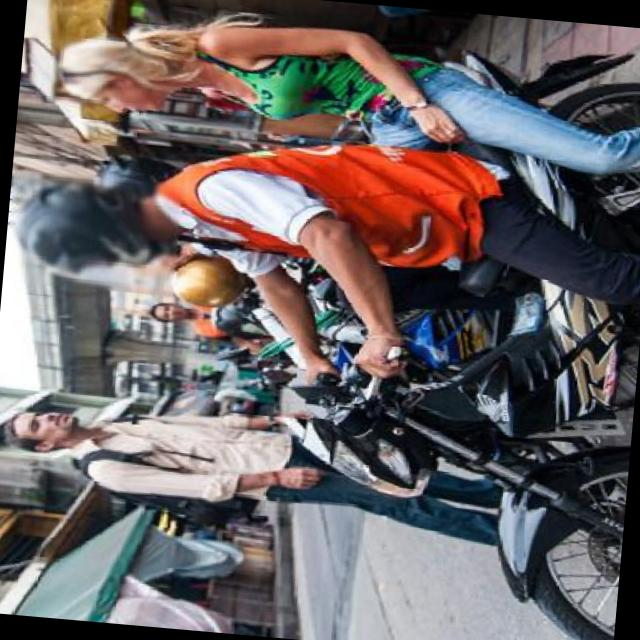With Helmet: (4, 165, 184, 293), (45, 32, 154, 109)
